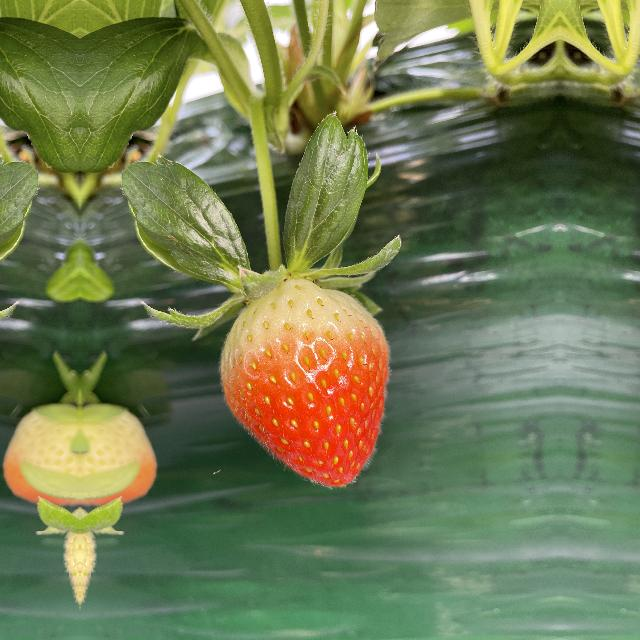Health_100: (213, 276, 394, 490)
